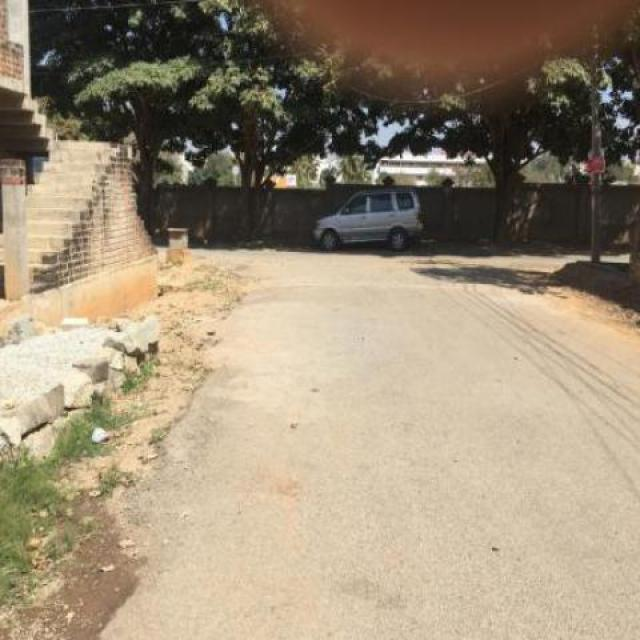Unmarked Bump: (242, 280, 577, 300)
